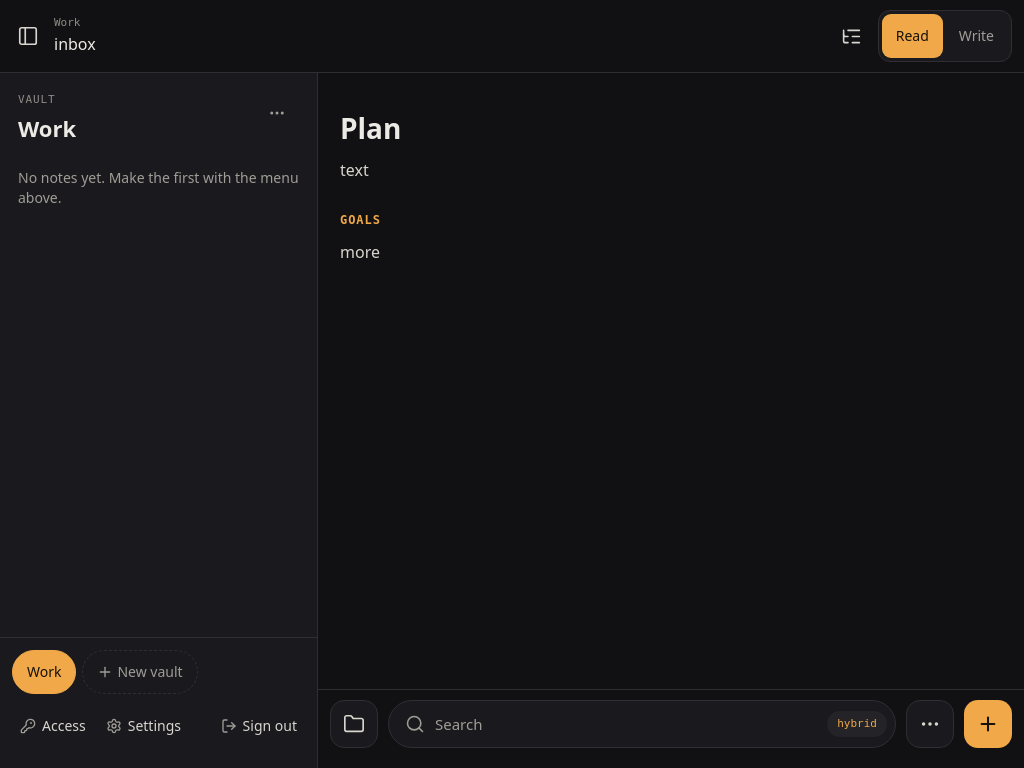
Test: the search sheet › has the input and the Hybrid, Meaning and Exact chips at the bottom, below the results
Click the button "Search hybrid" at [459, 724], box [388,700,896,748]
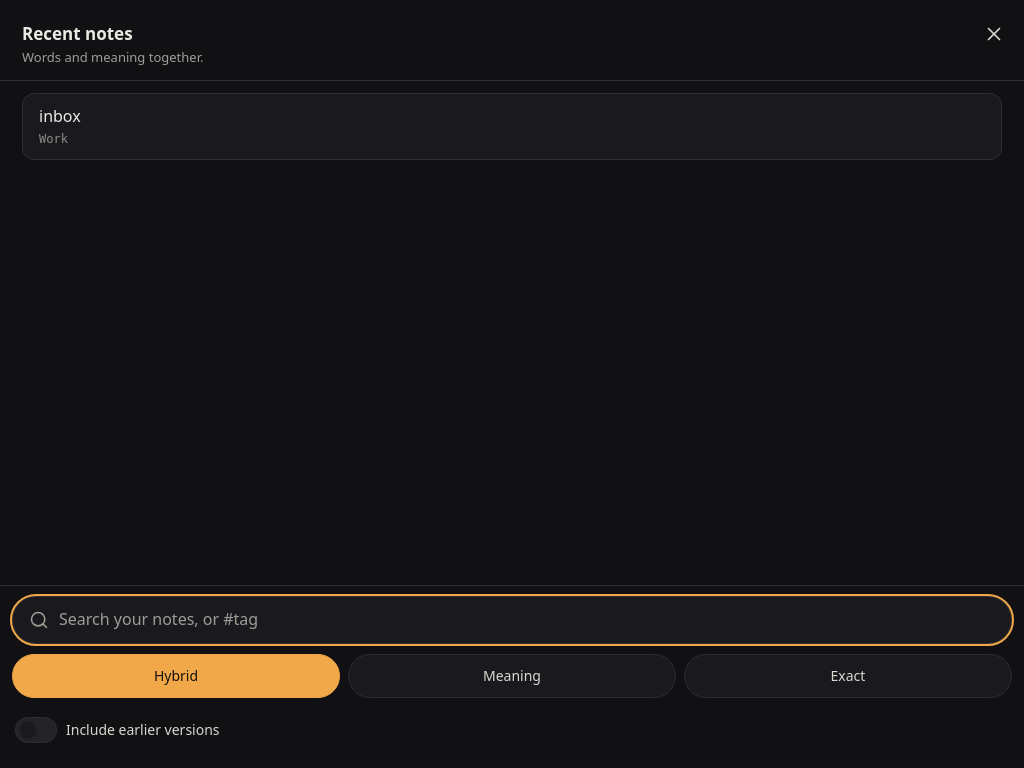
Result: the buttons read "Hybrid", "Meaning", "Exact", in this order at [12,654,340,698]; [348,654,676,698]; [684,654,1012,698]
